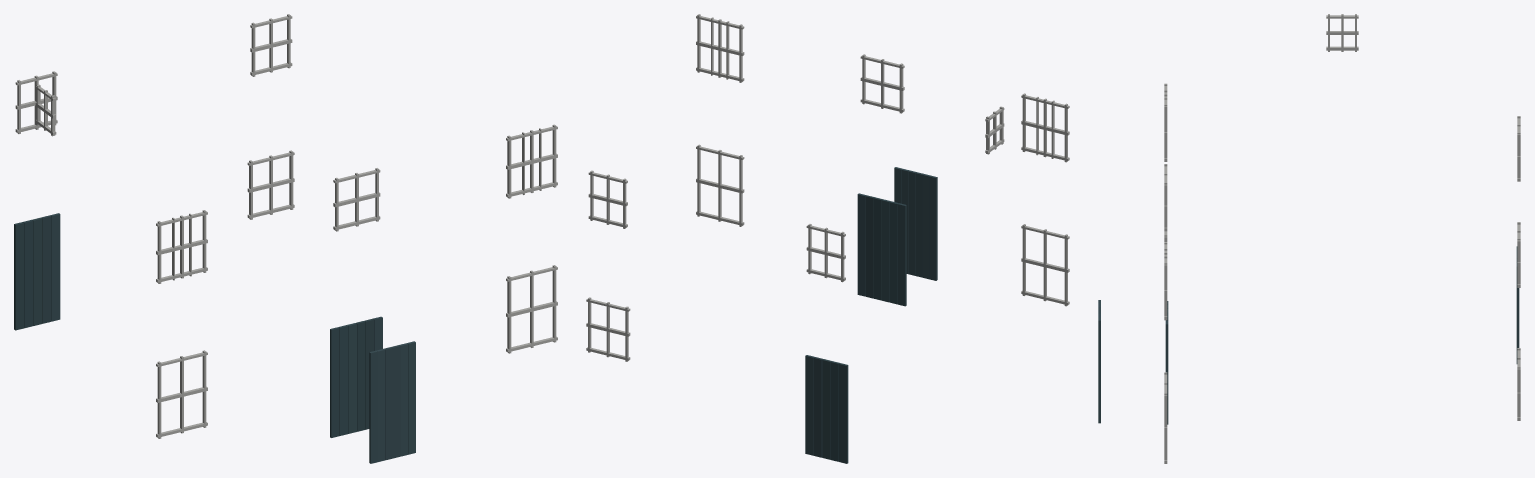
Rendered from SM_Bld_012_Wood.glb.
3 views of the same model, side by side, from view 1: azimuth 30°, elevation 25°; view 2: azimuth 150°, elevation 25°; view 3: azimuth 270°, elevation 25° (orthographic). The views are drawn at different scales.
Visible parts, largest first — view 1: SM_Bld_012_Wood; view 2: SM_Bld_012_Wood; view 3: SM_Bld_012_Wood.
Boxes of the visible parts, <box> form: SM_Bld_012_Wood: <box>14,14,557,463</box>; SM_Bld_012_Wood: <box>586,14,1069,463</box>; SM_Bld_012_Wood: <box>1098,14,1520,463</box>.
Size of the model in its own units: 8.29 by 6.15 by 7.83.
